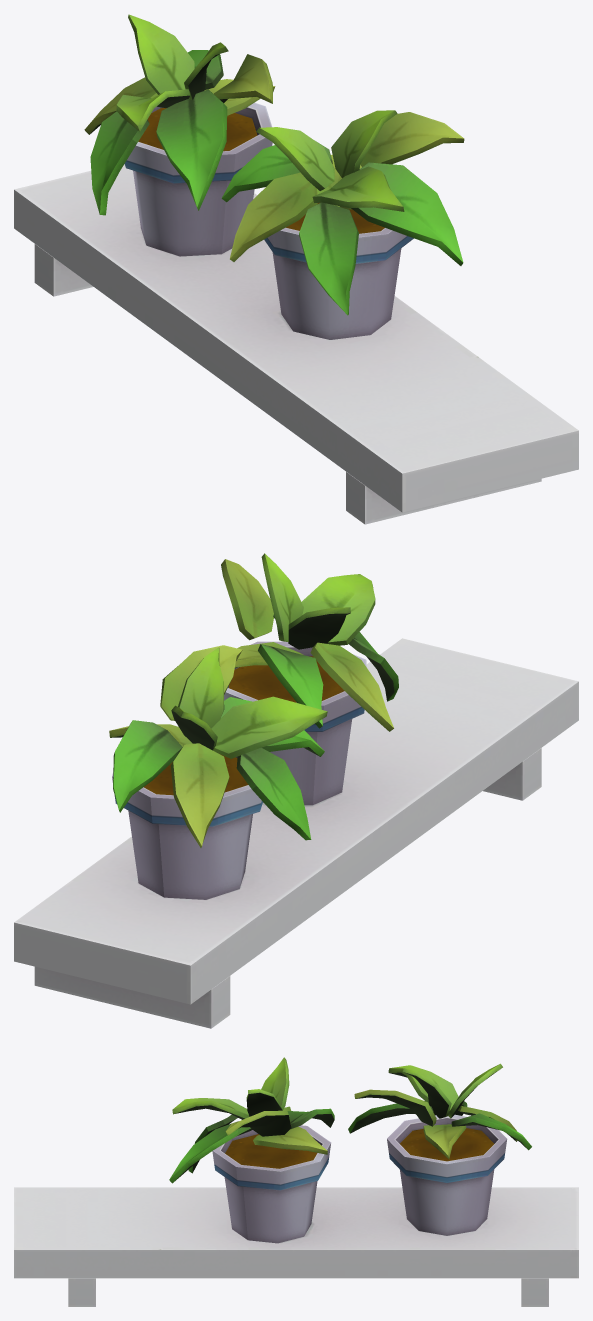
Rendered from my_cafe_01_b_wallshelf_01.glb.
3 renders of one model, top to bottom at view 1: azimuth 30°, elevation 25°; view 2: azimuth 150°, elevation 25°; view 3: azimuth 270°, elevation 25°, orthographic. The views are drawn at different scales.
Parts seen in each view (by area): view 1: my_cafe_01_b_wallshelf_01; view 2: my_cafe_01_b_wallshelf_01; view 3: my_cafe_01_b_wallshelf_01.
Part boxes in pixels (x1,y1,x2,y2): my_cafe_01_b_wallshelf_01: (14, 14, 578, 524); my_cafe_01_b_wallshelf_01: (14, 553, 578, 1028); my_cafe_01_b_wallshelf_01: (14, 1057, 578, 1306).
Bounding box in the file's own units: 0.00453 × 0.00548 × 0.0135.
1 material, 1 textured.
